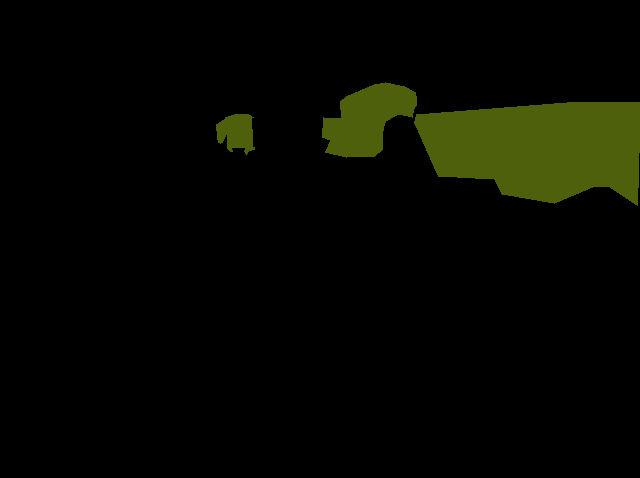Train: (414, 101, 640, 205), (322, 82, 417, 158), (225, 114, 255, 155), (216, 119, 227, 143)
